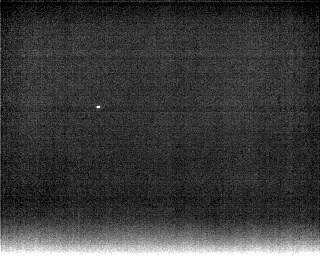BIRD: (95, 103, 102, 111)
